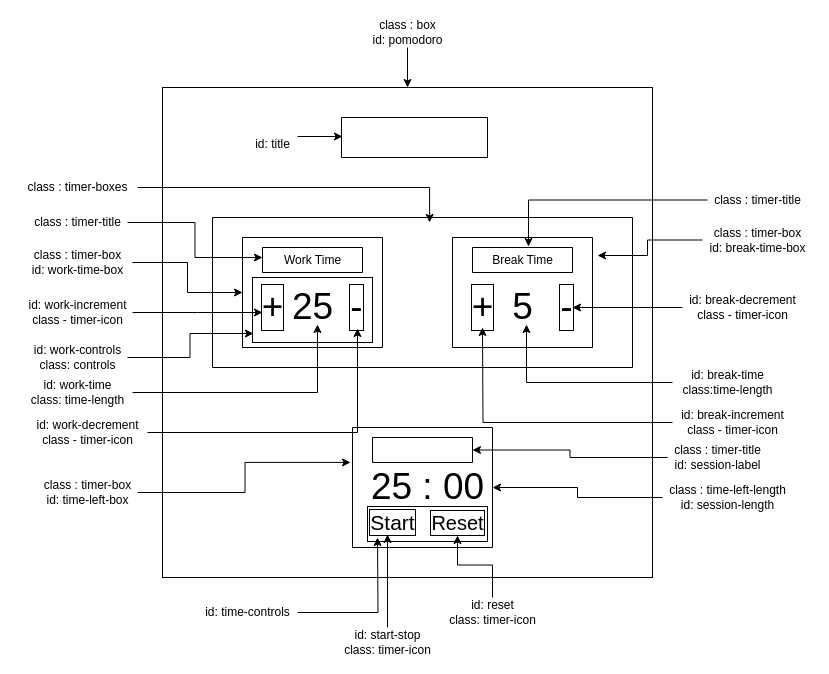
This 829x674 diagram has some shape labels left out. The centre of each missing label's shape, as x and y in pixels:
Pomodoro Clock: [414,137]
Work Time Left: [422,449]
